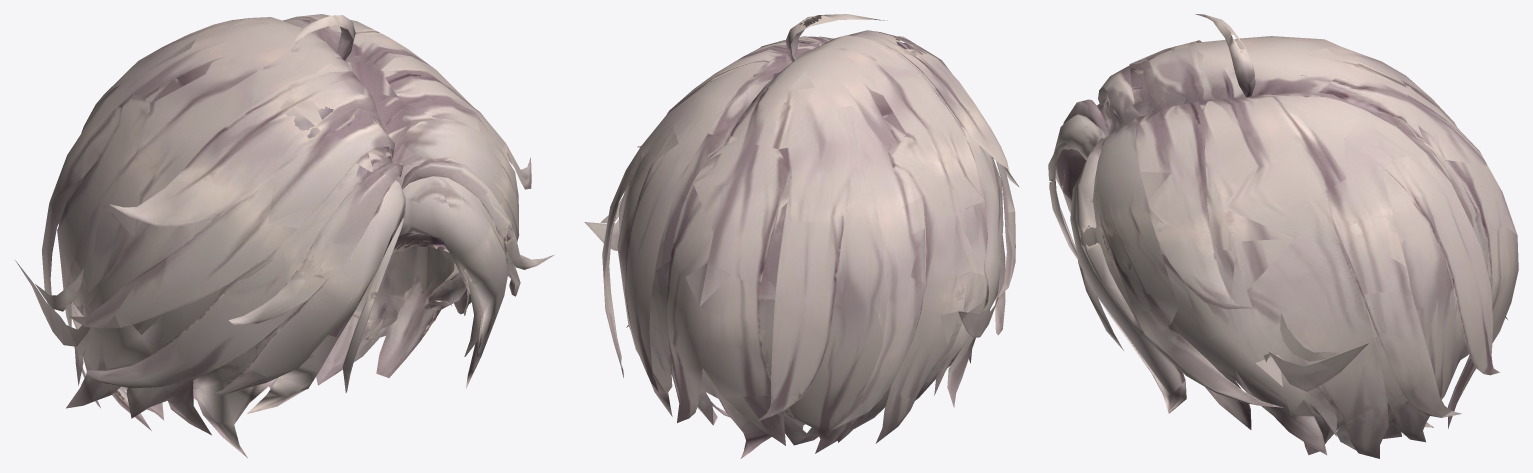
File: short.glb
The picture shows the model from 3 angles, left to right: view 1: azimuth 30°, elevation 25°; view 2: azimuth 150°, elevation 25°; view 3: azimuth 270°, elevation 25°; orthographic projection. The views are drawn at different scales.
Visible parts, largest first — view 1: Mesh_0; view 2: Mesh_0; view 3: Mesh_0.
Part boxes in pixels (box(x1,y1,x2,y2)): Mesh_0: box(15, 14, 554, 457); Mesh_0: box(584, 14, 1019, 458); Mesh_0: box(1048, 14, 1518, 458).
Size of the model in its own units: 1.61 by 1.52 by 1.61.
Materials: 1 (1 with a texture image).
